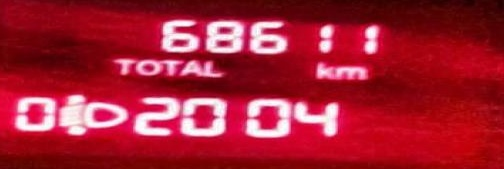0: (245, 96, 288, 140), (183, 95, 225, 137), (10, 94, 56, 131)
1: (359, 20, 386, 57), (312, 18, 335, 55)
2: (134, 94, 180, 136)
4: (291, 98, 343, 139)
6: (159, 16, 200, 51), (250, 19, 287, 54)
8: (204, 18, 245, 55)
X: (109, 54, 134, 75), (335, 64, 369, 79), (313, 60, 335, 81), (181, 59, 201, 79), (203, 58, 223, 78), (137, 56, 158, 74), (160, 58, 180, 75)
